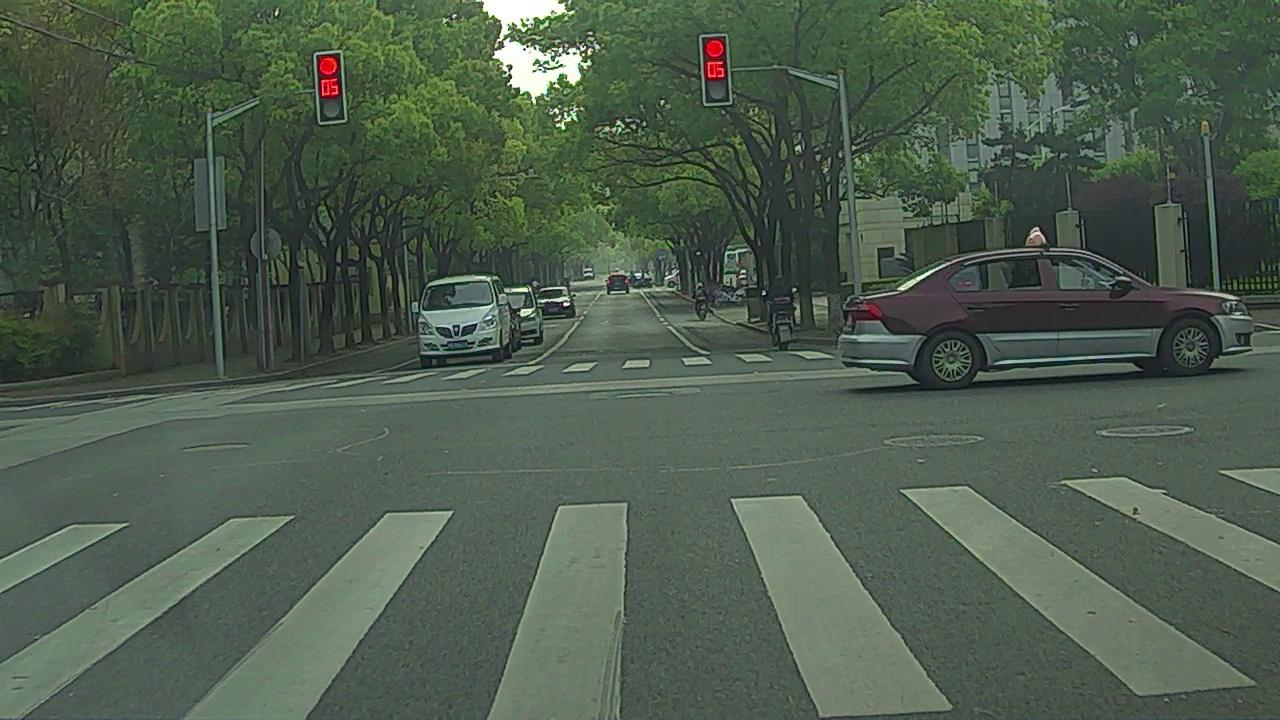traffic_light: (702, 36, 731, 102), (319, 52, 345, 124)
